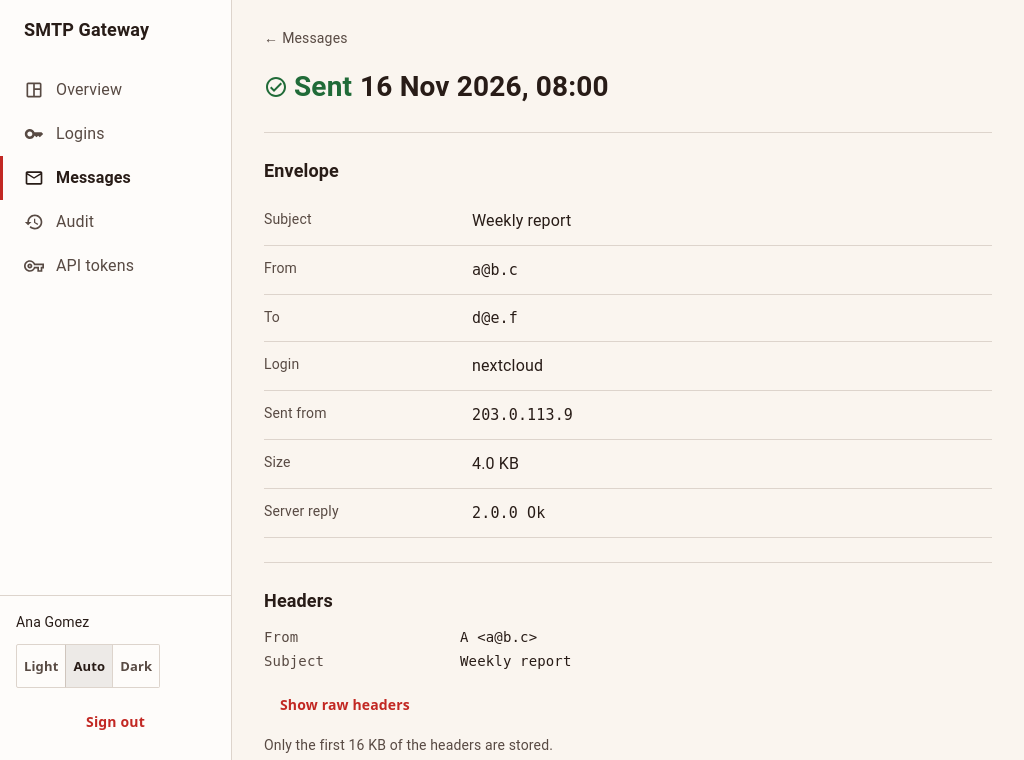
Scenario: MessageDetail › shows parsed headers in order and toggles the raw block
Check: the text "Only the first 16 KB of the headers are stored." is shown, box [264, 738, 553, 754]
Check: the text "From: A" is not shown
Click the button "Show raw headers" at (345, 706), box [264, 684, 426, 728]
(page scrolled)
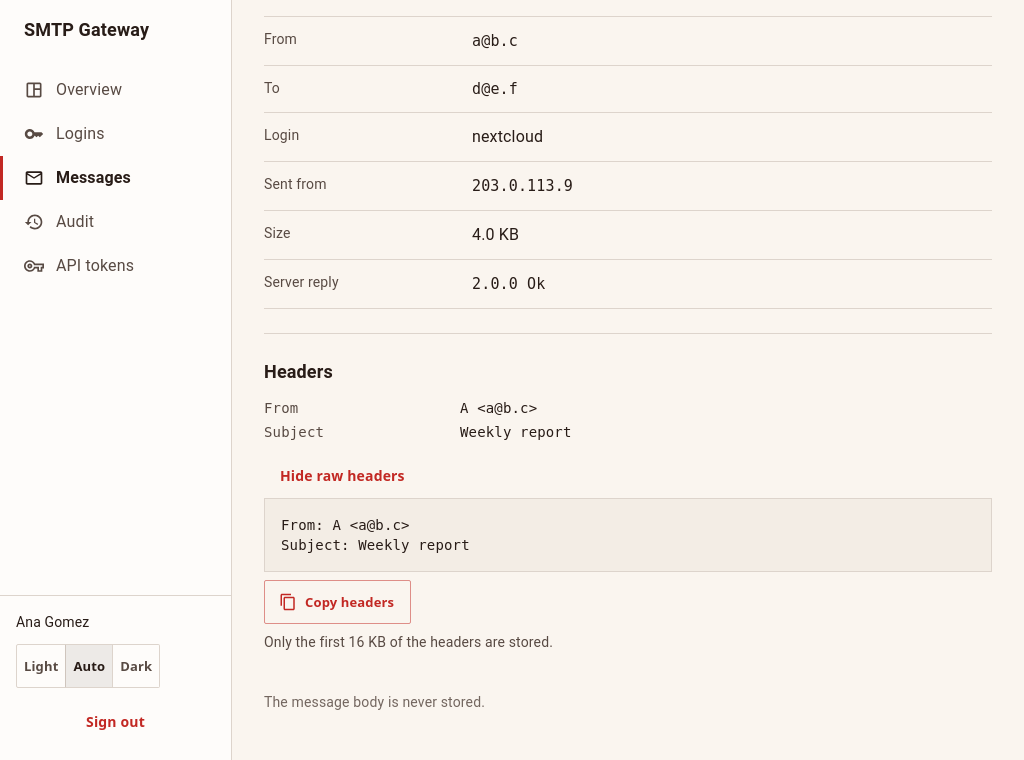
Check: the text "From: A <a@b.c> Subject: Weekly report" is shown, box [264, 498, 992, 572]
